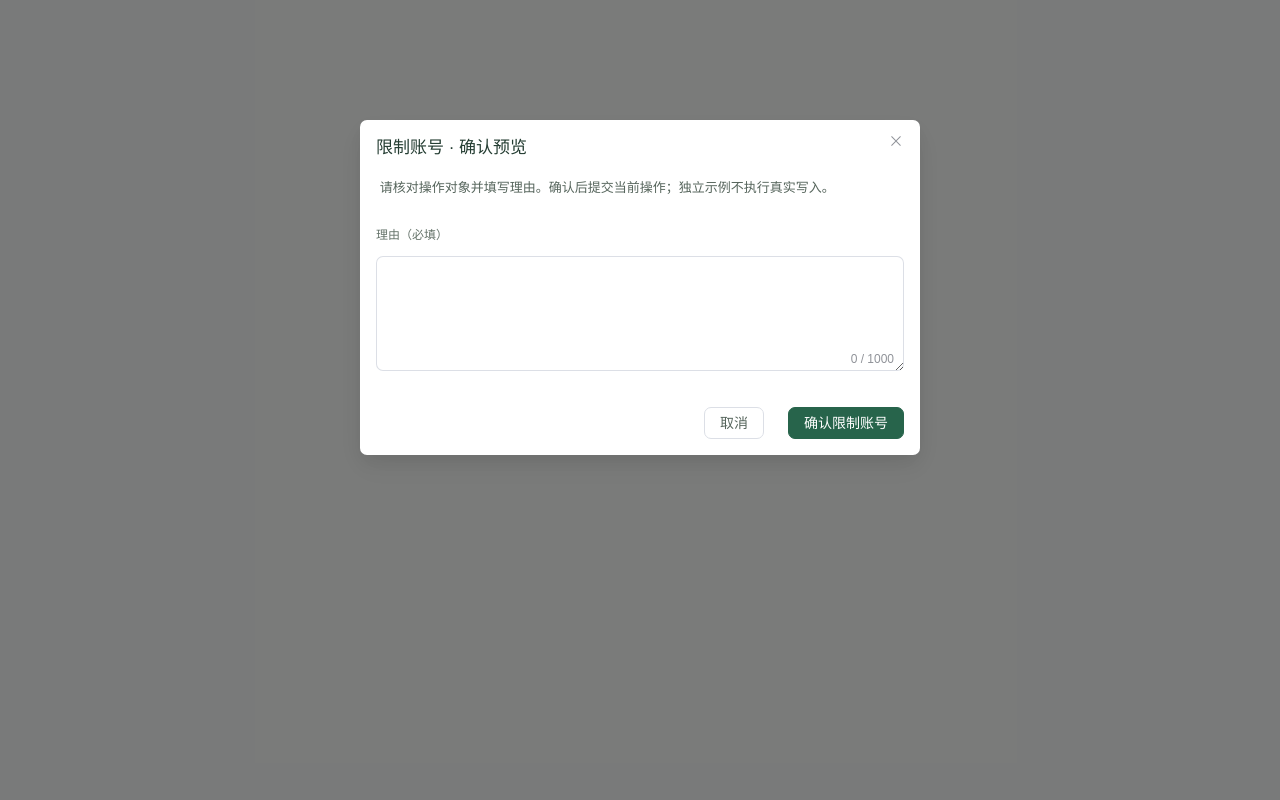
Test case: 管理操作确认公开交互 › 空理由不提交，服务未开放不显示成功，提交中禁用重复点击
Submit the form, box [376,221,904,439]
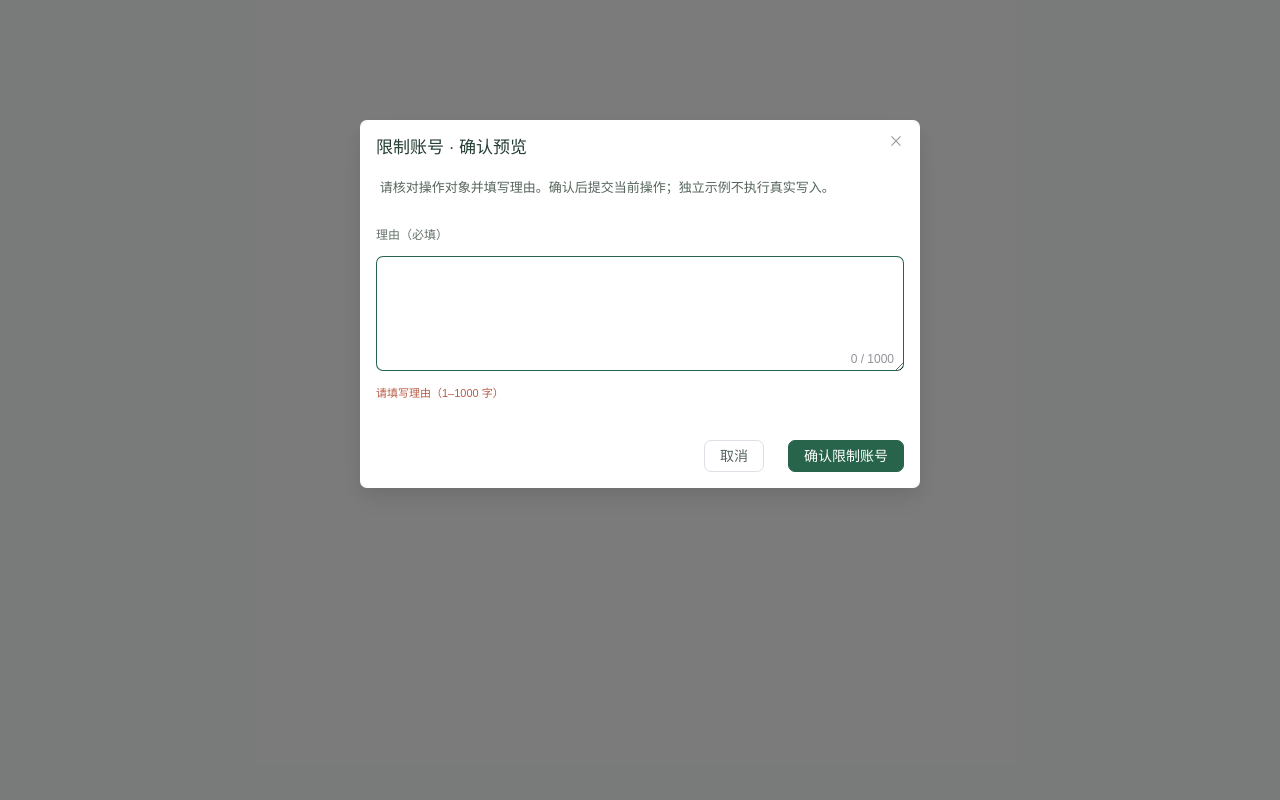
Check: the text "请填写理由" is shown, box [376,387,504,399]
Type " 核查理由 " into the text box labelled "理由（必填）" at coordinates (640, 313), box [376,256,904,371]
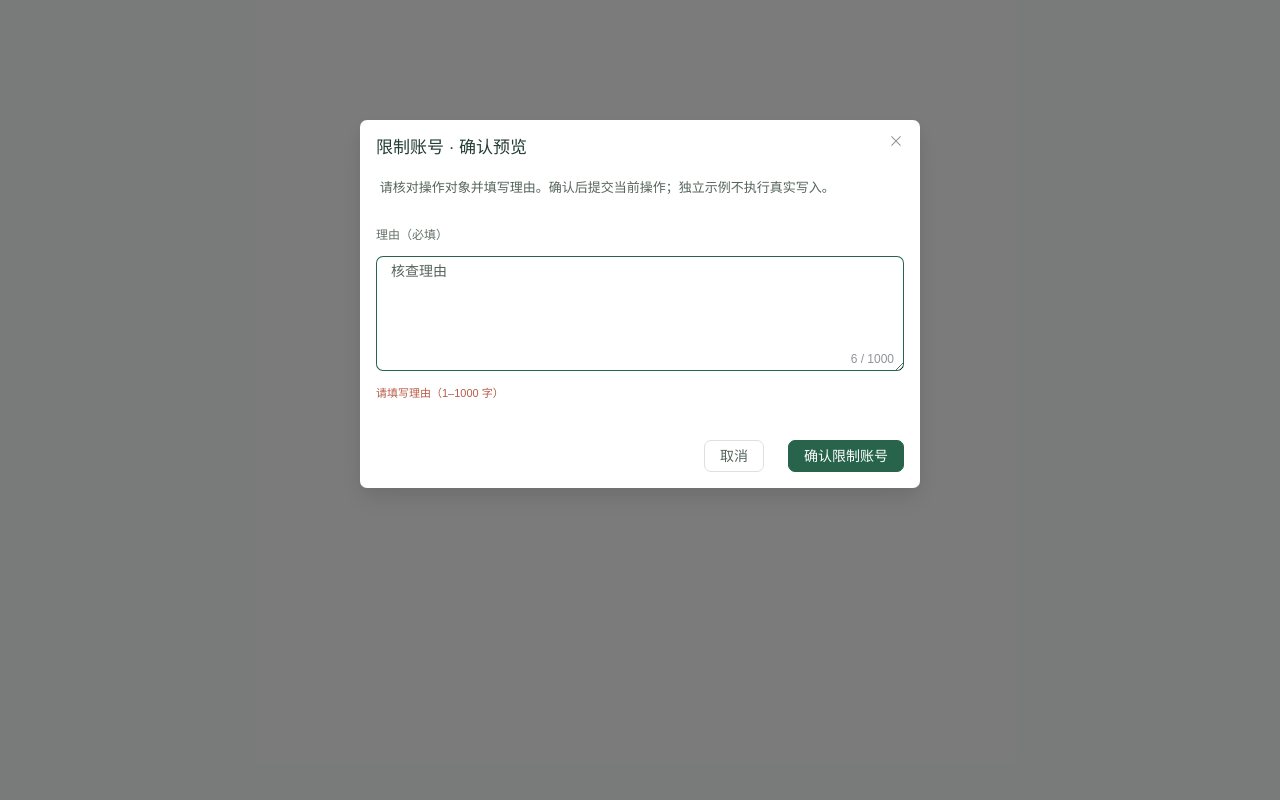
Submit the form, box [376,221,904,472]
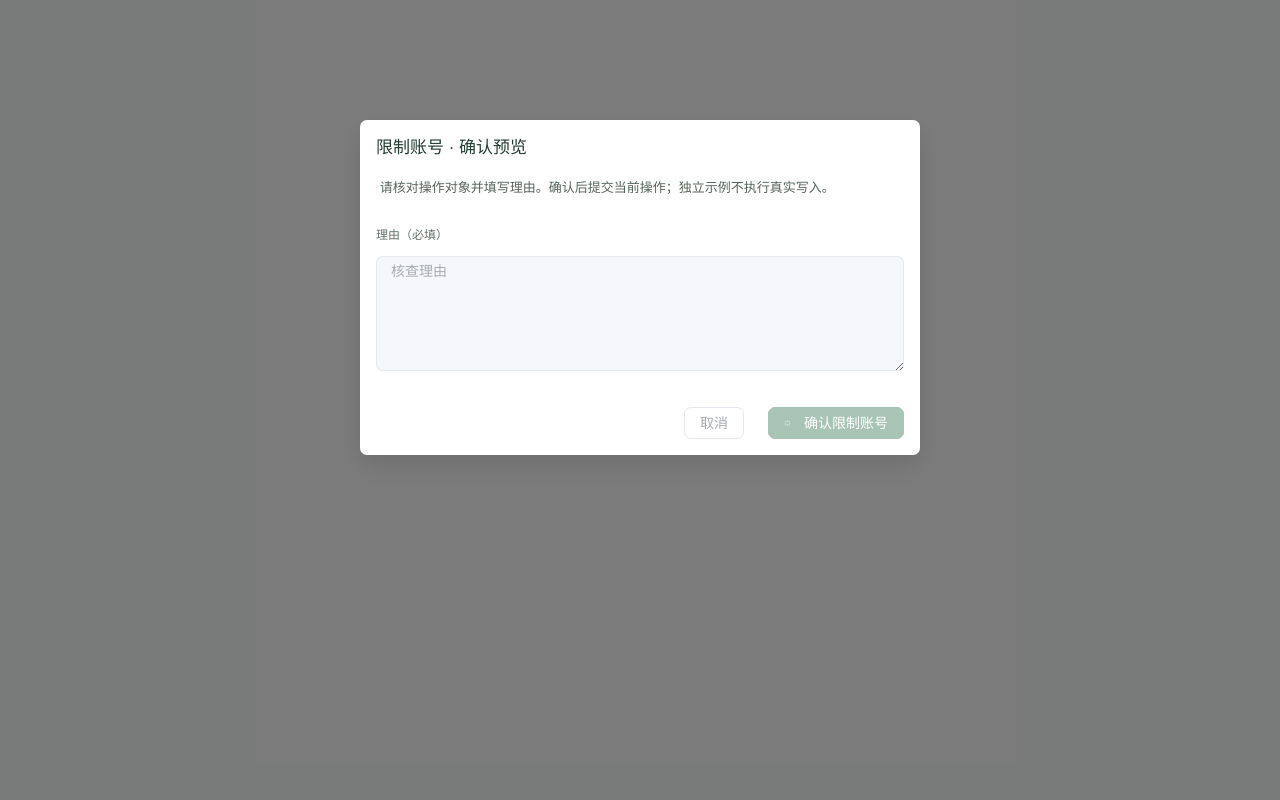
Submit the form, box [376,221,904,439]
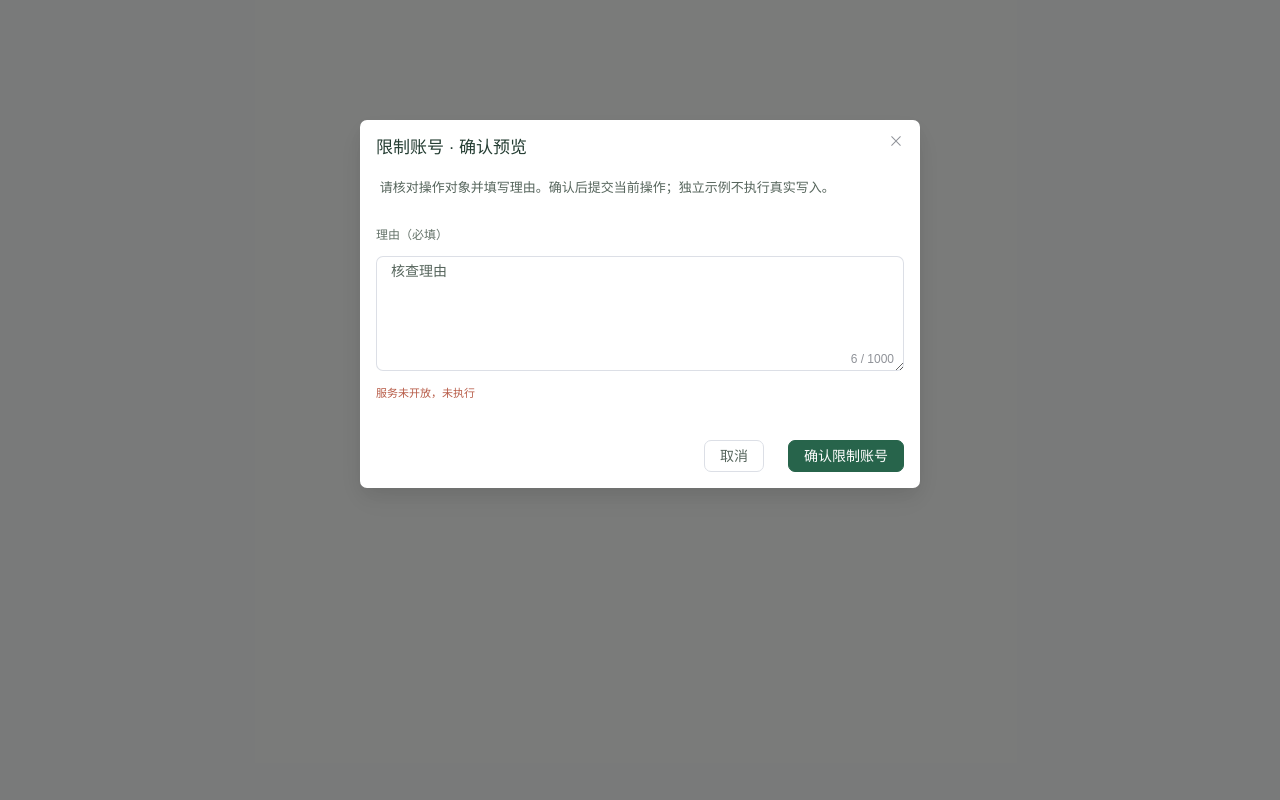
Check: the text "服务未开放，未执行" is shown, box [376,387,475,399]
